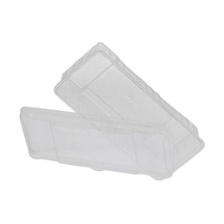plastic_box: (11, 35, 210, 189)
